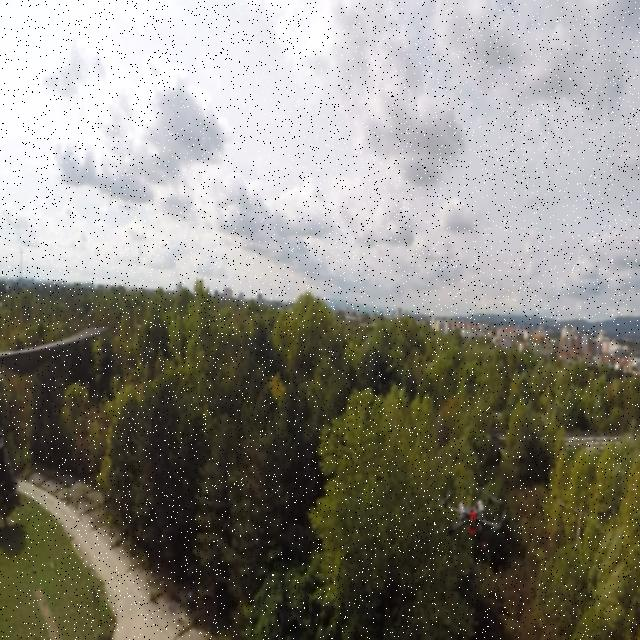UAV: (442, 485, 508, 567)
